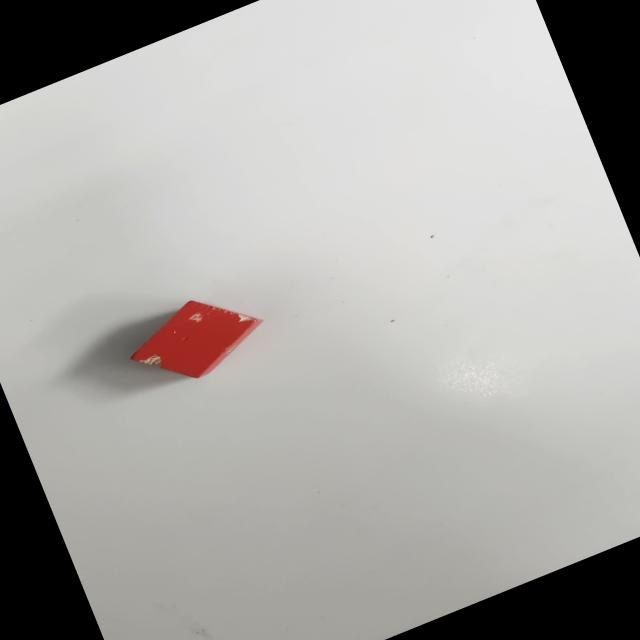broken: (118, 277, 273, 399)
